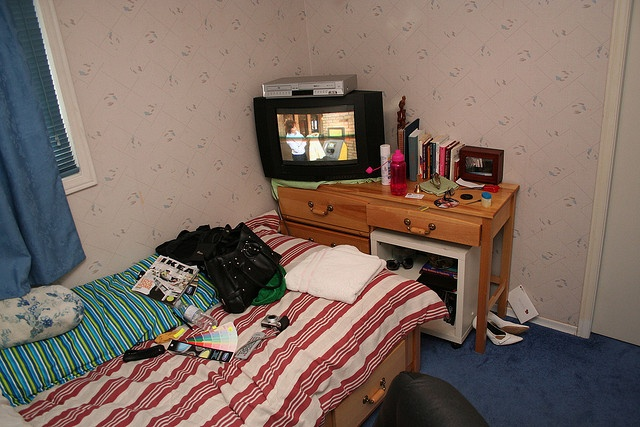bed: (1, 212, 451, 427)
bottle: (366, 149, 640, 345)
